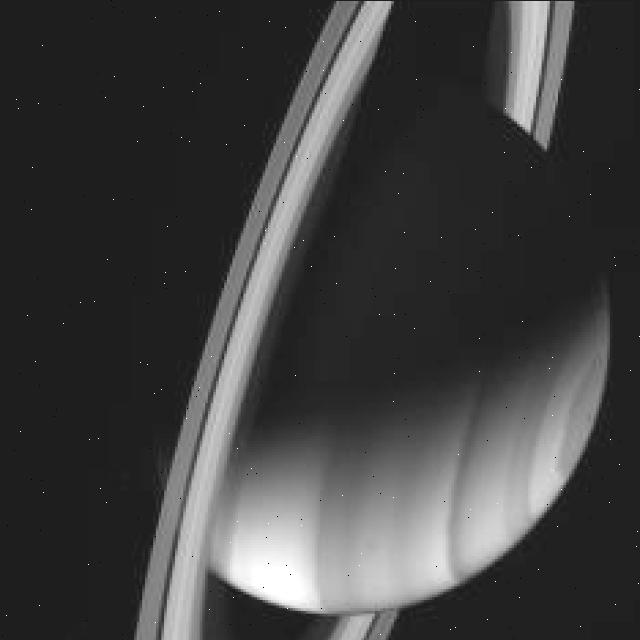Saturn: (120, 0, 616, 640)
